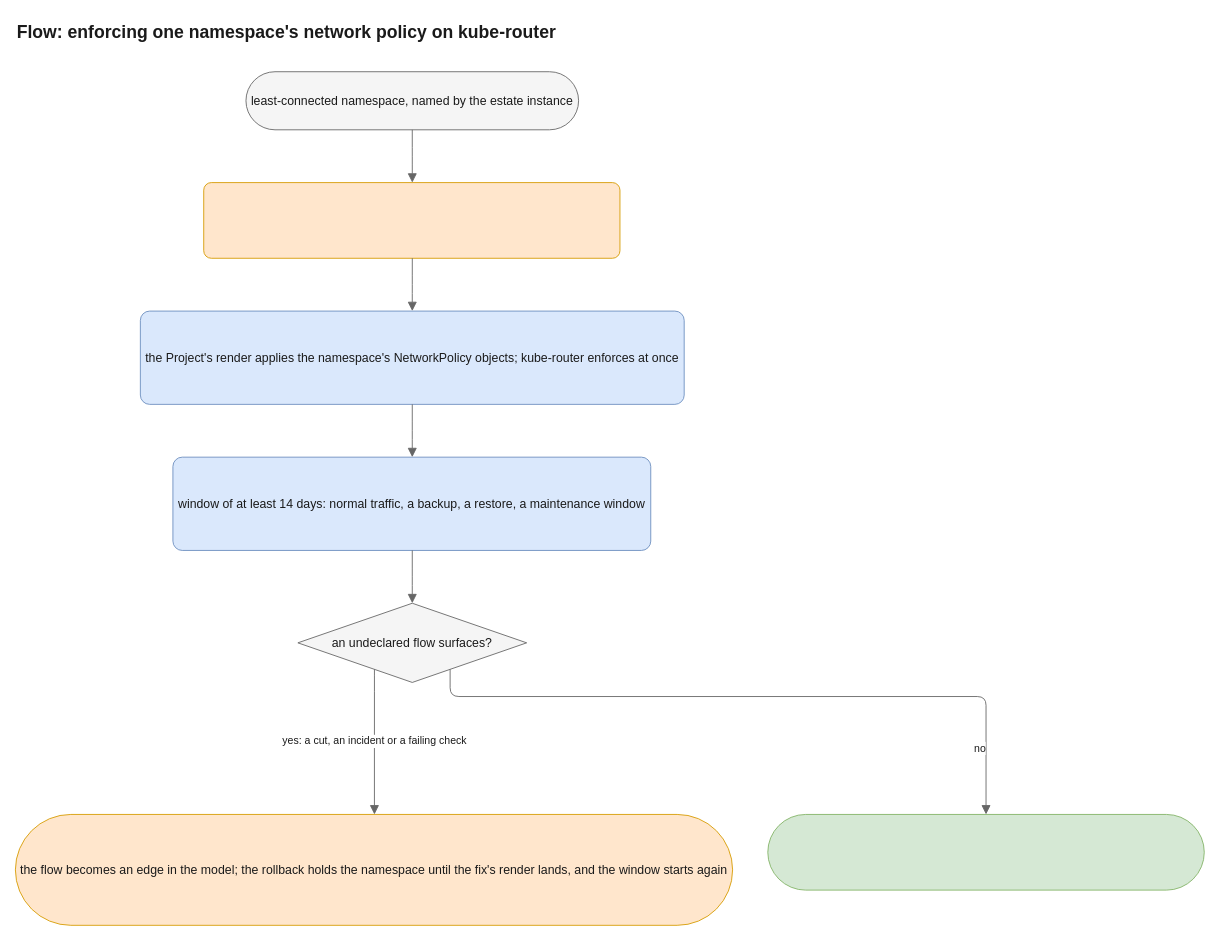
This 1220x941 diagram has some shape labels left out. Here are the shapes that lost their labels. From the top down, the box of each, then its label:
(203, 182, 620, 258): declare the rollback: written beside the enforced mark, before enforcement
(767, 814, 1204, 890): the namespace keeps its enforced mark; the next namespace's window opens
